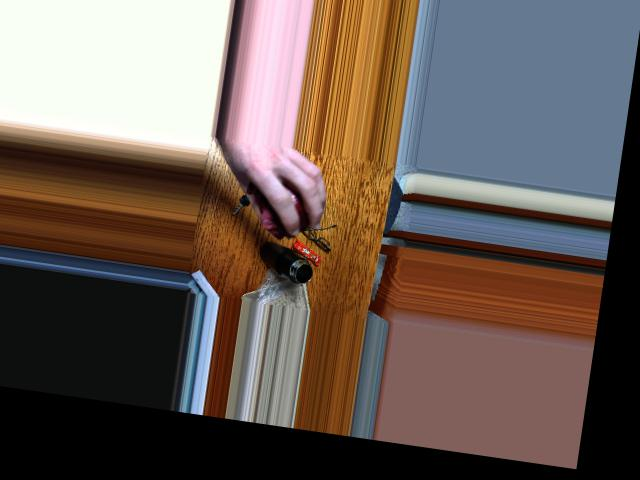onion: (251, 181, 318, 235)
